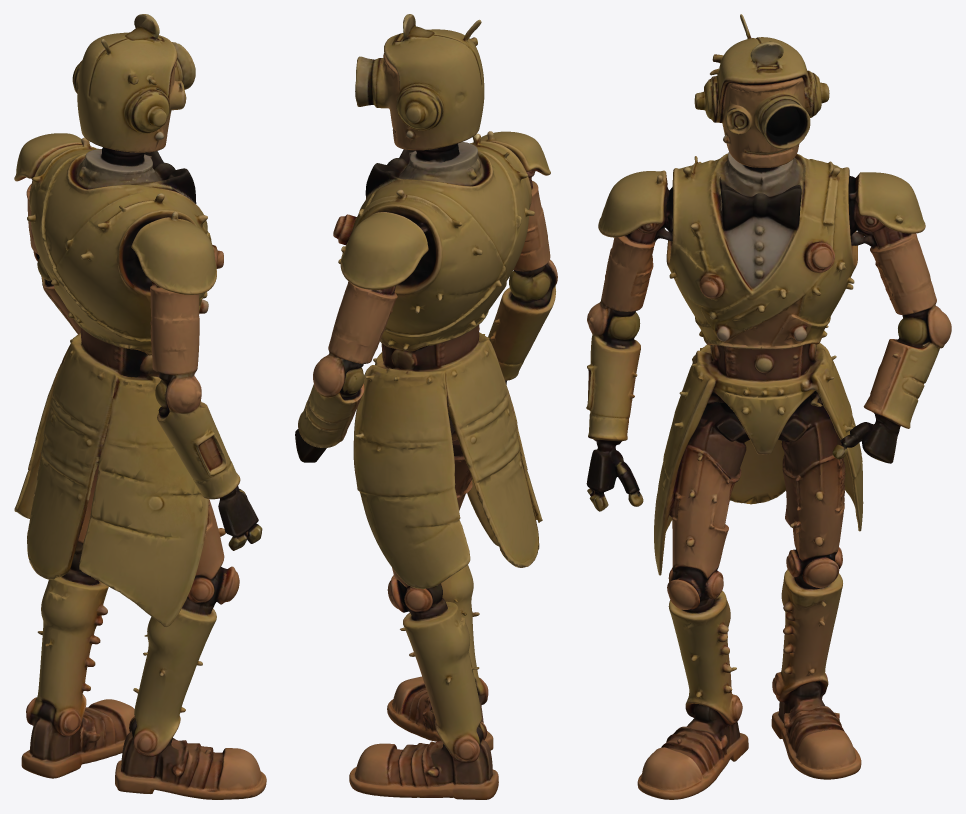
File: t7-opt.glb
3 views of the same model, side by side, from view 1: azimuth 30°, elevation 25°; view 2: azimuth 150°, elevation 25°; view 3: azimuth 270°, elevation 25° (orthographic). The views are drawn at different scales.
Parts seen in each view (by area): view 1: tripo_node_9d3ccb66-8ea3-47ca-8105-39211440d7b8; view 2: tripo_node_9d3ccb66-8ea3-47ca-8105-39211440d7b8; view 3: tripo_node_9d3ccb66-8ea3-47ca-8105-39211440d7b8.
Boxes of the visible parts, x1,y1,x2,y2 form: tripo_node_9d3ccb66-8ea3-47ca-8105-39211440d7b8: (14,14,266,799); tripo_node_9d3ccb66-8ea3-47ca-8105-39211440d7b8: (295,14,557,799); tripo_node_9d3ccb66-8ea3-47ca-8105-39211440d7b8: (586,14,951,799).
Size of the model in its own units: 0.2562 by 1 by 0.4558.
1 material, 1 textured.
